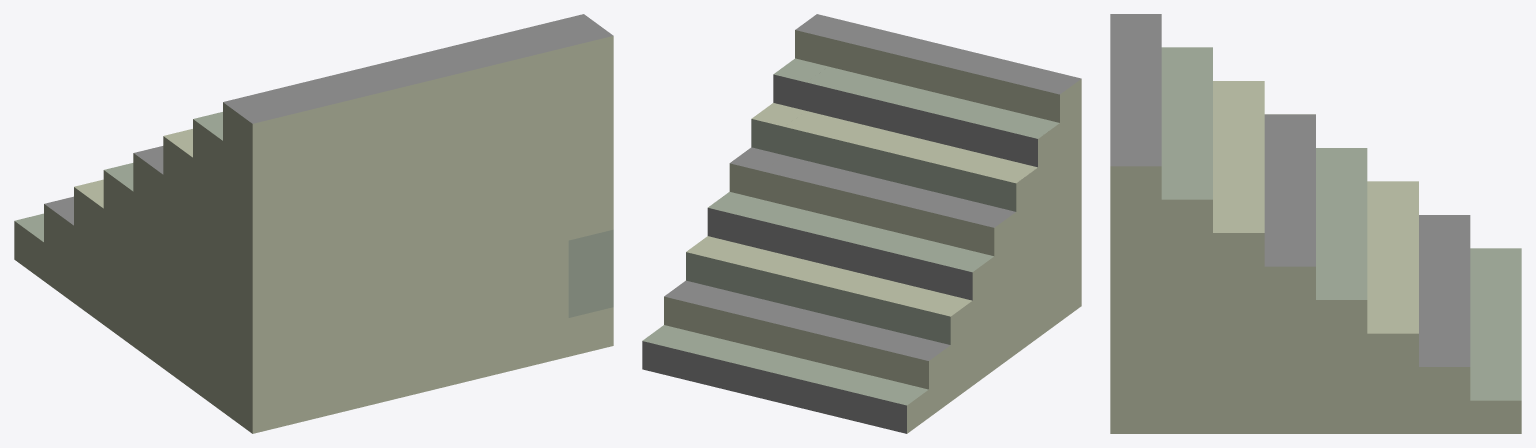
The model's file is Escaliers mat 1.fbx.
The picture shows the model from 3 angles, left to right: view 1: azimuth 30°, elevation 25°; view 2: azimuth 150°, elevation 25°; view 3: azimuth 270°, elevation 25°; orthographic projection. The views are drawn at different scales.
Visible parts, largest first — view 1: Stairs V0.001; view 2: Stairs V0.001; view 3: Stairs V0.001.
Part boxes in pixels (<box>): Stairs V0.001: <box>14,14,613,433</box>; Stairs V0.001: <box>642,14,1081,433</box>; Stairs V0.001: <box>1110,14,1521,433</box>.
Size of the model in its own units: 142 by 117 by 163.
